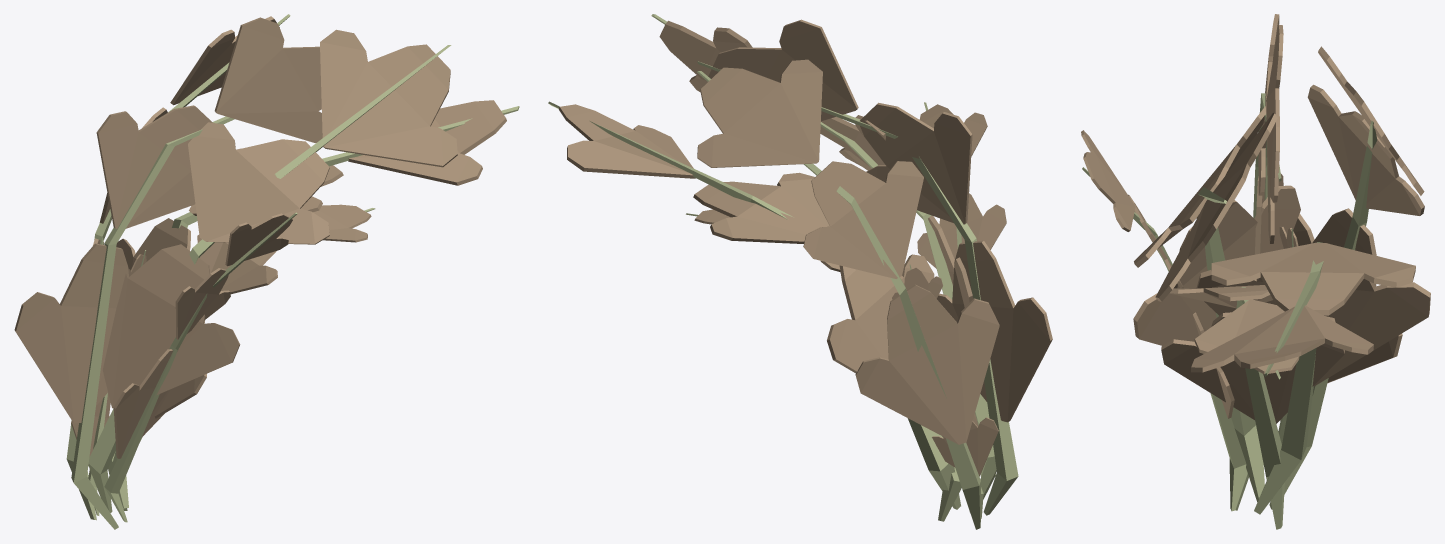
File: Carrot_Dry_8.fbx
The picture shows the model from 3 angles, left to right: view 1: azimuth 30°, elevation 25°; view 2: azimuth 150°, elevation 25°; view 3: azimuth 270°, elevation 25°; orthographic projection. The views are drawn at different scales.
Visible parts, largest first — view 1: 8_Dry_Carrot; view 2: 8_Dry_Carrot; view 3: 8_Dry_Carrot.
Part boxes in pixels (x1=…): 8_Dry_Carrot: x1=14, y1=14, x2=519, y2=529; 8_Dry_Carrot: x1=548, y1=14, x2=1052, y2=529; 8_Dry_Carrot: x1=1081, y1=14, x2=1430, y2=529.
Bounding box in the file's own units: 36.01 × 31.67 × 17.31.
